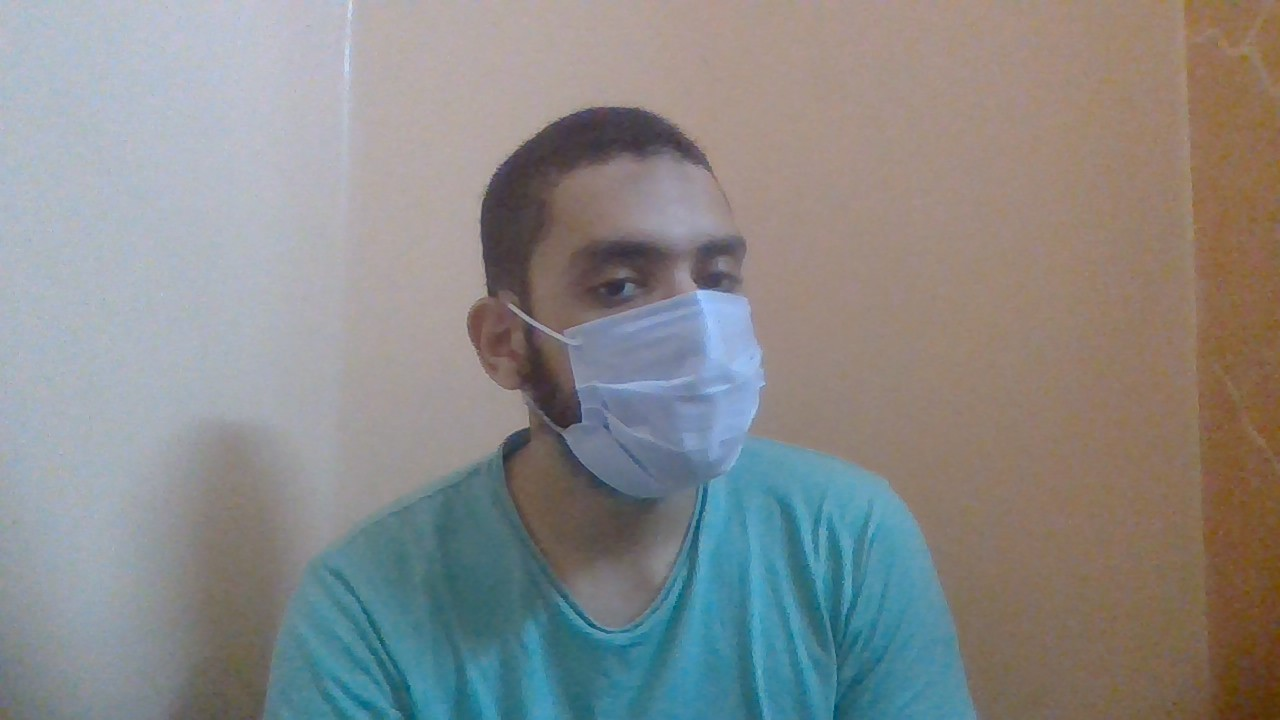mask: (552, 313, 765, 496)
